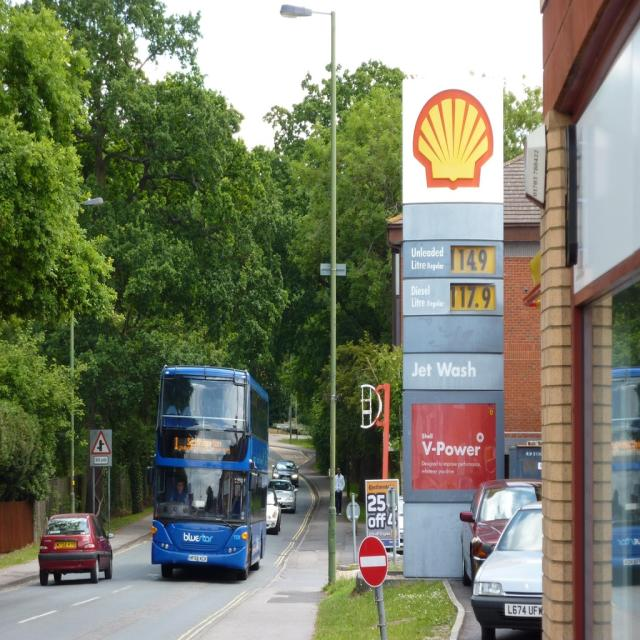shell: (414, 86, 495, 191)
